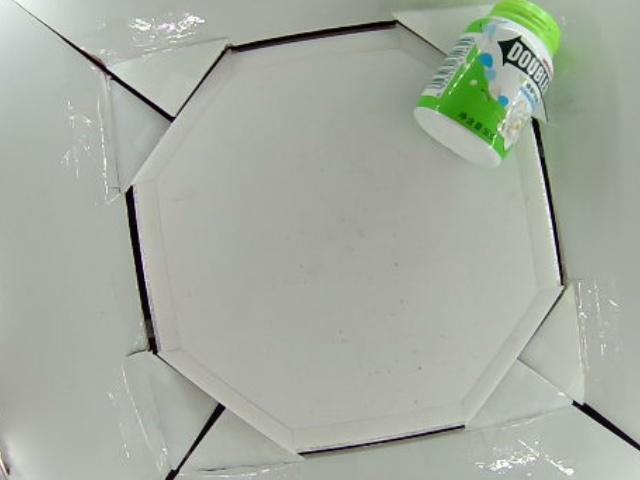Bottle: (412, 1, 563, 164)
